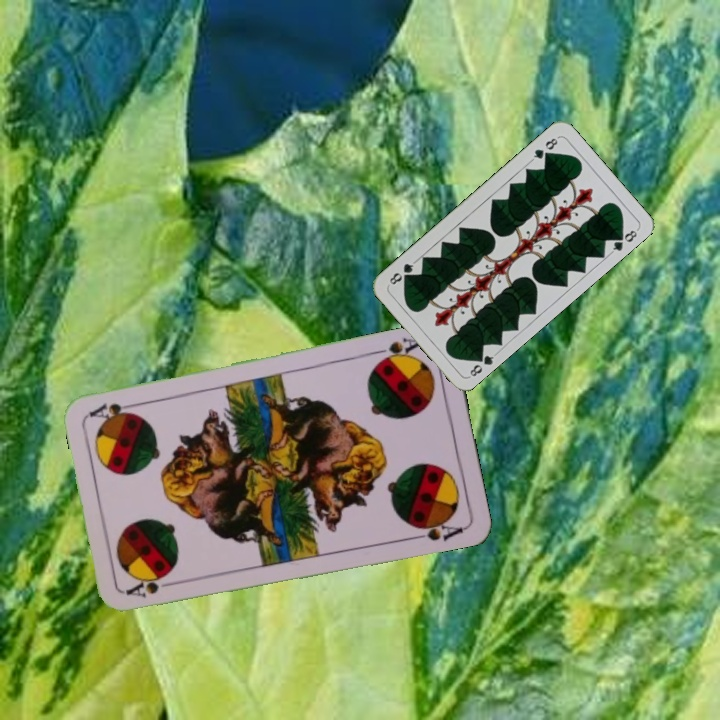G8: (465, 348, 499, 380), (527, 133, 561, 164)
SA: (370, 334, 428, 367), (122, 570, 181, 600)
